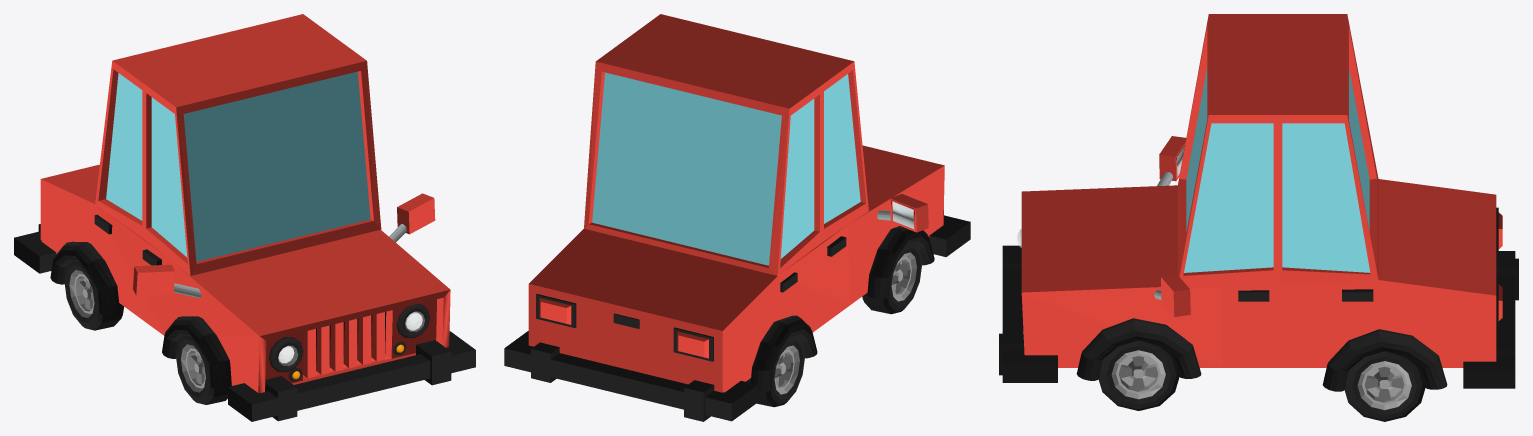
Rendered from car.dae.
3 views of the same model, side by side, from view 1: azimuth 30°, elevation 25°; view 2: azimuth 150°, elevation 25°; view 3: azimuth 270°, elevation 25° (orthographic). The views are drawn at different scales.
Visible parts, largest first — view 1: car; view 2: car; view 3: car.
Boxes of the visible parts, x1,y1,x2,y2 form: car: (14,14,475,421); car: (504,14,970,421); car: (999,14,1518,421).
Bounding box in the file's own units: 0.1083 × 0.0969 × 0.15.
